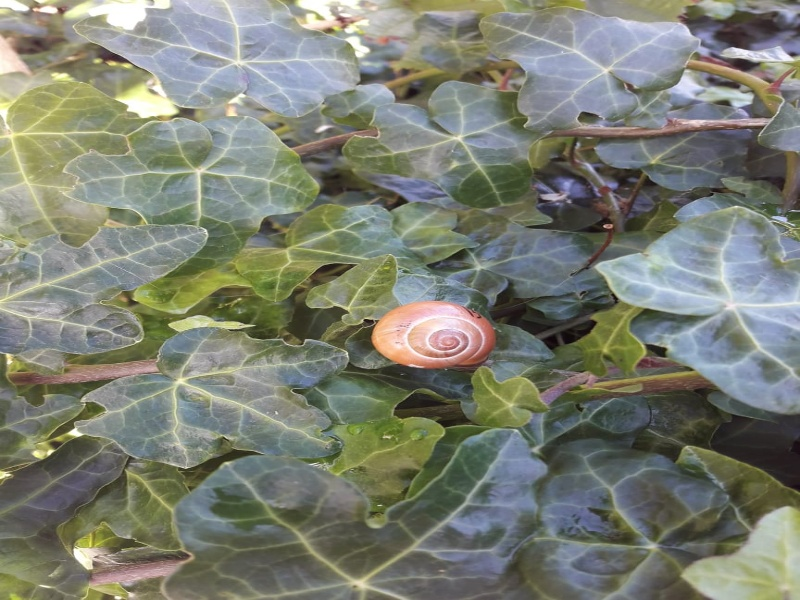snail_P_O: (366, 284, 502, 383)
